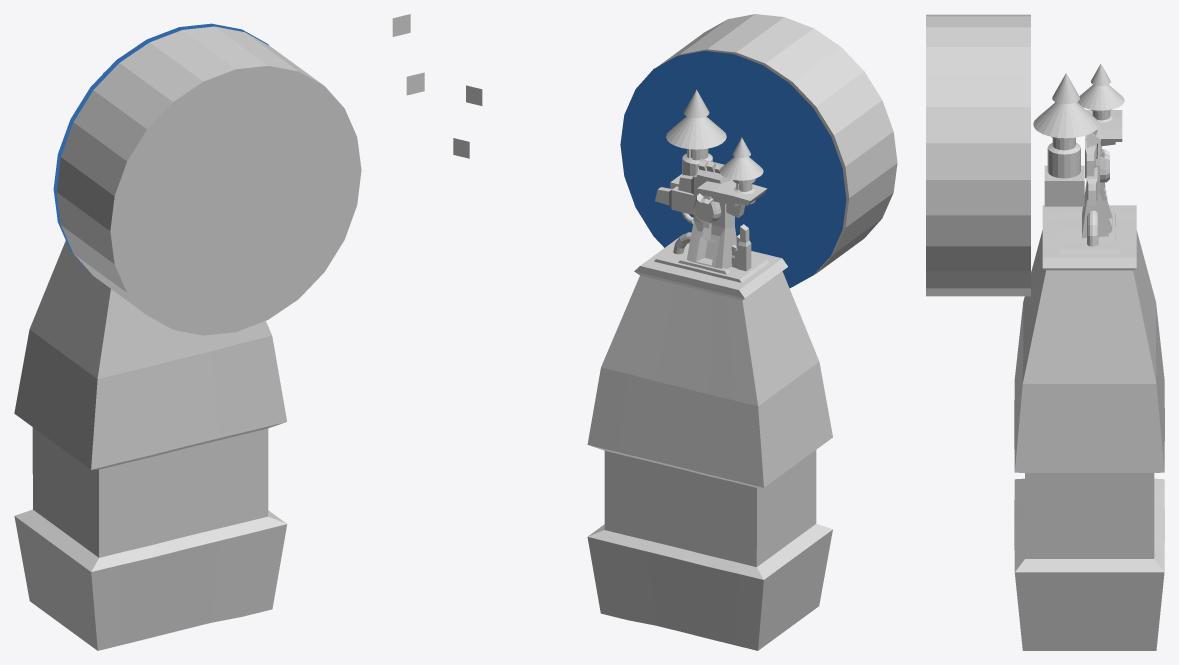
File: projection-test-3.fbx
The picture shows the model from 3 angles, left to right: view 1: azimuth 30°, elevation 25°; view 2: azimuth 150°, elevation 25°; view 3: azimuth 270°, elevation 25°; orthographic projection. The views are drawn at different scales.
Parts seen in each view (by area): view 1: Cylinder.003, Cylinder.001; view 2: Cylinder.003, Cylinder.001; view 3: Cylinder.003.
Part boxes in pixels (left/top/right/bottom): Cylinder.003: left=14, top=14, right=424, bottom=650; Cylinder.001: left=53, top=23, right=269, bottom=273; Cylinder.003: left=453, top=14, right=897, bottom=650; Cylinder.001: left=620, top=51, right=846, bottom=288; Cylinder.003: left=926, top=14, right=1164, bottom=650.
Size of the model in its own units: 4497 by 6363 by 2360.
